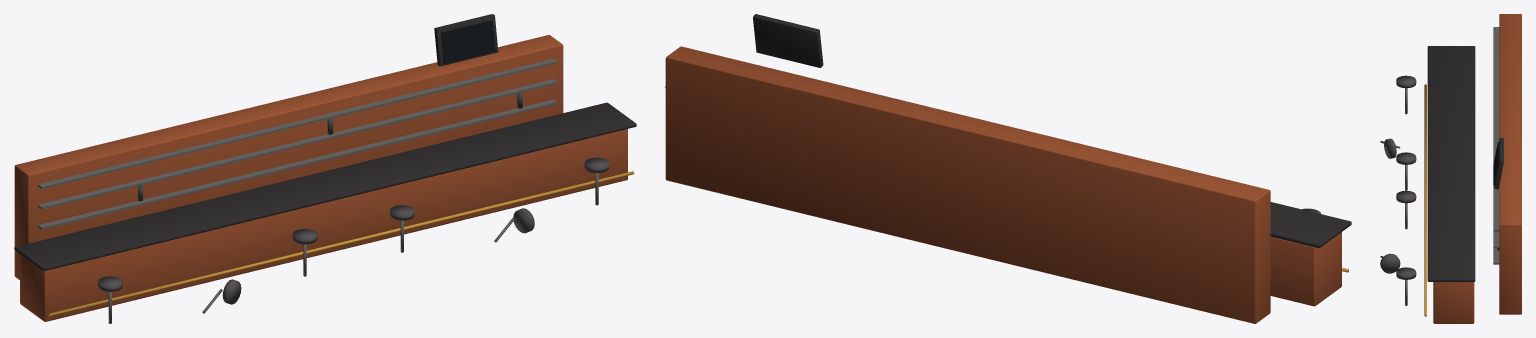
Rendered from casino_bar.glb.
3 renders of one model, left to right at view 1: azimuth 30°, elevation 25°; view 2: azimuth 150°, elevation 25°; view 3: azimuth 270°, elevation 25°, orthographic. The views are drawn at different scales.
Parts seen in each view (by area): view 1: back_bar, counter, top, shelf_2, shelf_1, shelf_0, rail, tv_glass, tv; view 2: back_bar, counter, tv, top; view 3: top, back_bar, counter, shelf_2, rail, seat_4, tv, seat_2, seat_5, seat_0, seat_3, seat_1 (+2 smaller).
Boxes of the visible parts, bbox=[...] form: back_bar: bbox=[14, 35, 563, 279]; counter: bbox=[20, 129, 627, 321]; top: bbox=[14, 102, 636, 271]; shelf_2: bbox=[38, 58, 557, 188]; shelf_1: bbox=[38, 79, 557, 209]; shelf_0: bbox=[38, 99, 557, 229]; rail: bbox=[48, 171, 634, 316]; tv_glass: bbox=[441, 20, 495, 63]; tv: bbox=[434, 14, 498, 66]; back_bar: bbox=[665, 46, 1270, 323]; counter: bbox=[1270, 232, 1341, 306]; tv: bbox=[753, 14, 823, 67]; top: bbox=[665, 86, 1351, 248]; top: bbox=[1427, 46, 1475, 281]; back_bar: bbox=[1499, 14, 1521, 314]; counter: bbox=[1433, 282, 1474, 323]; shelf_2: bbox=[1493, 27, 1499, 231]; rail: bbox=[1424, 84, 1426, 316]; seat_4: bbox=[1380, 253, 1400, 273]; tv: bbox=[1494, 138, 1503, 189]; seat_2: bbox=[1396, 152, 1416, 164]; seat_5: bbox=[1396, 267, 1416, 279]; seat_0: bbox=[1396, 75, 1416, 88]; seat_3: bbox=[1396, 190, 1416, 203]; seat_1: bbox=[1384, 138, 1396, 158].
Bounding box in the file's own units: 12.2 × 3.1 × 3.13.
